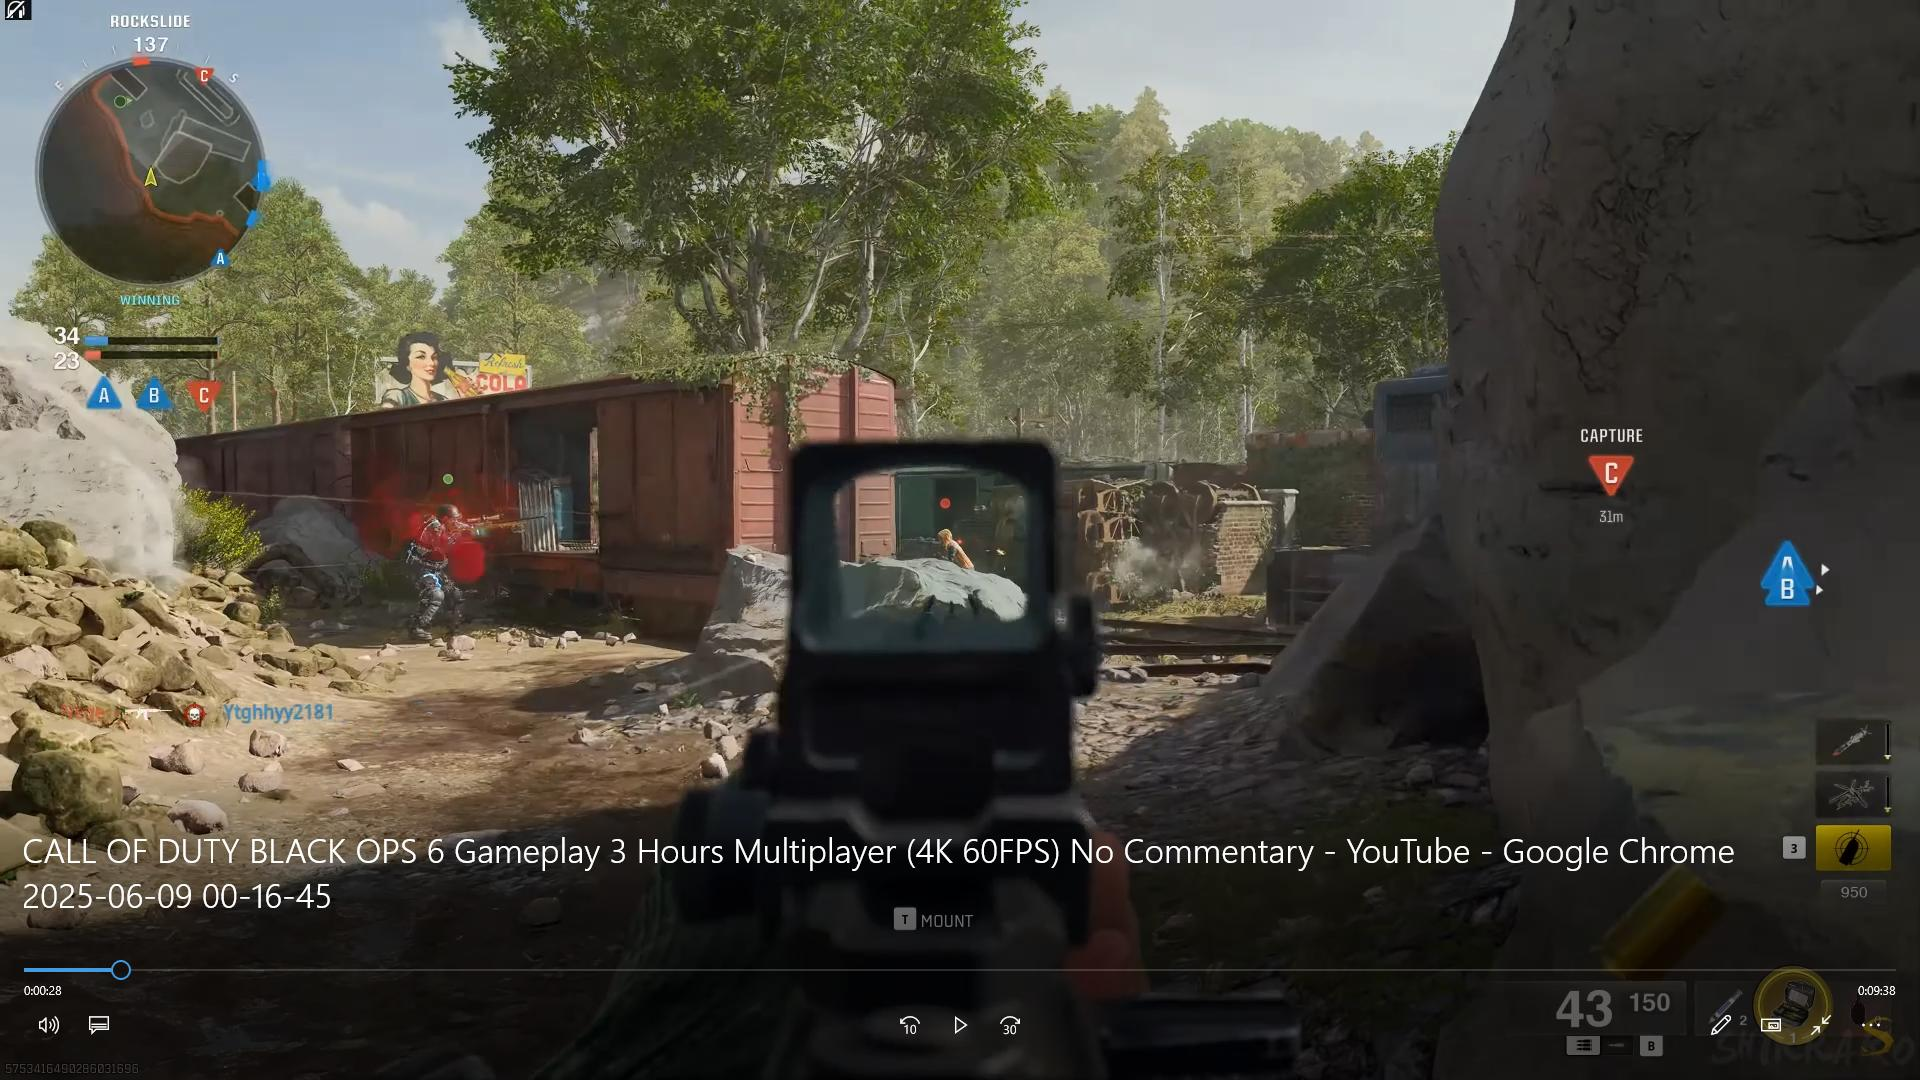Enemy: (394, 500, 518, 645), (930, 520, 973, 572)
